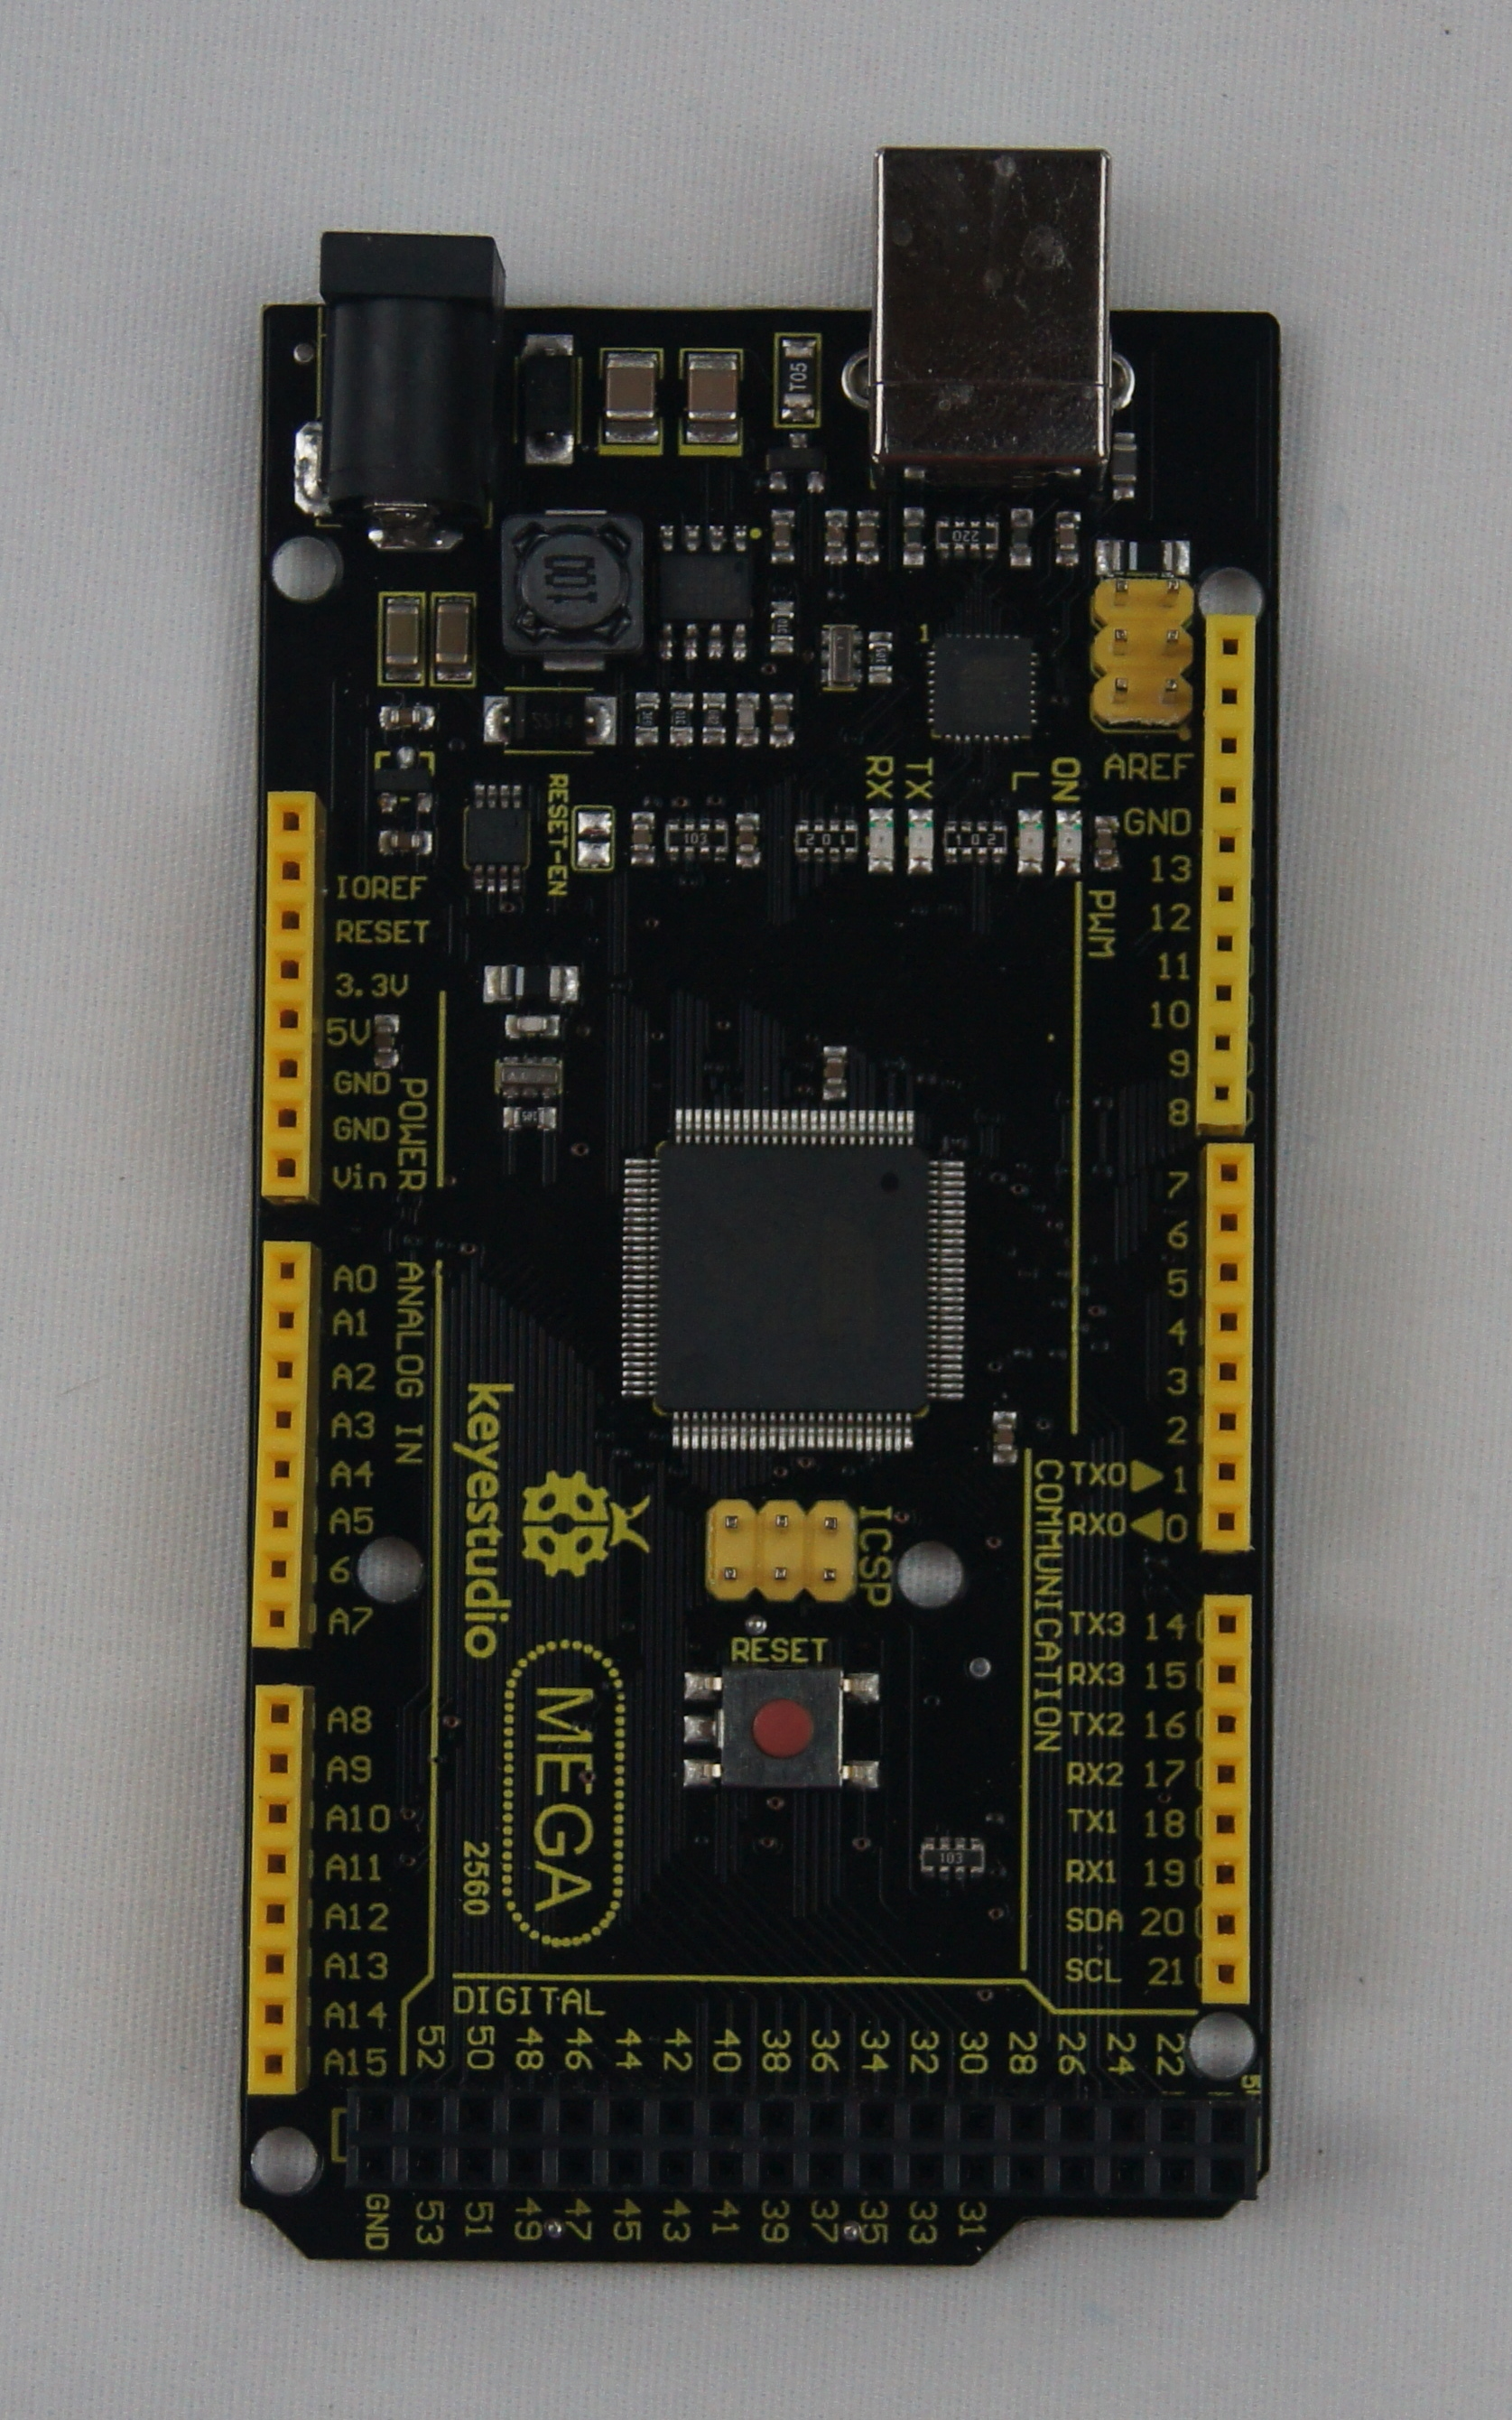connector: (341, 2080, 1258, 2204), (315, 228, 507, 540), (1191, 608, 1251, 1134), (258, 782, 324, 1199), (256, 1237, 317, 1648), (1197, 1589, 1256, 2007), (246, 1676, 305, 2092), (1193, 1139, 1252, 1552), (705, 1497, 861, 1606), (1092, 575, 1197, 730)
